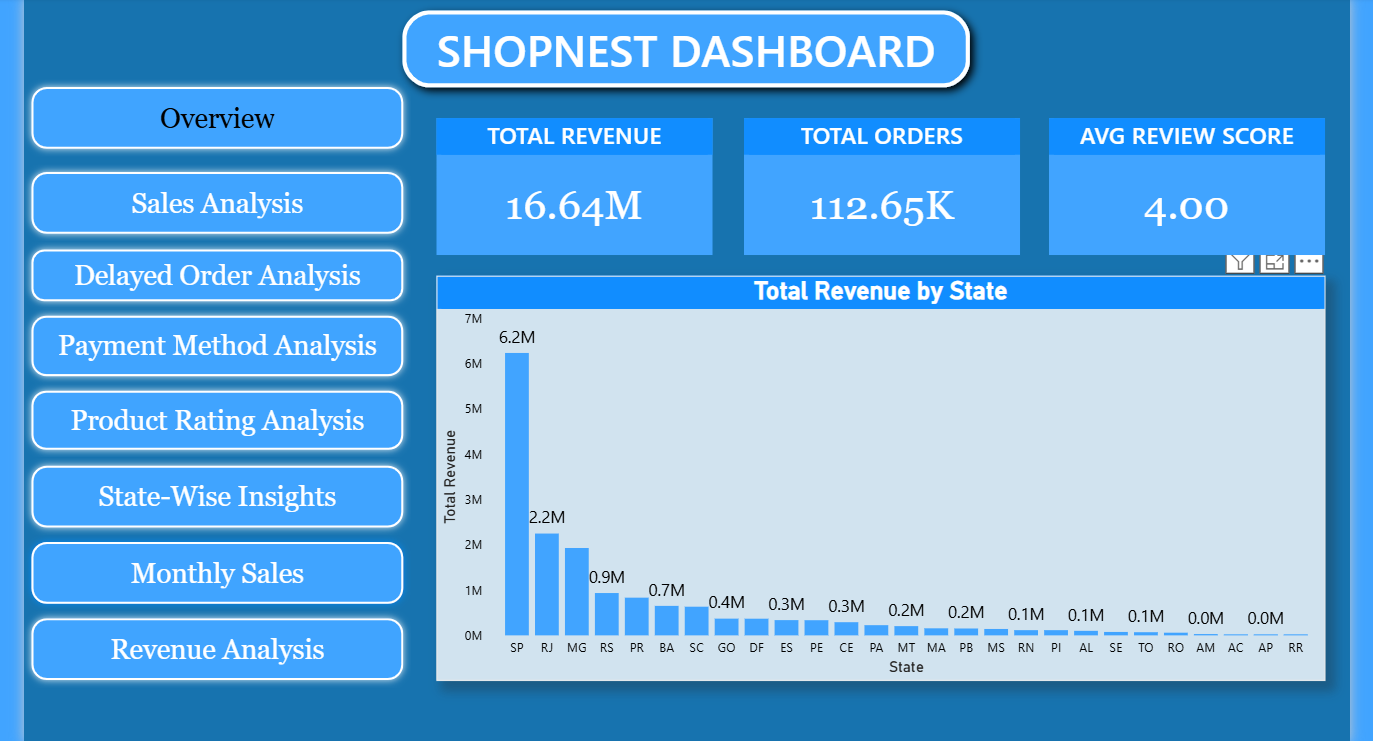

Layout of this report page (visuals, bound fields, positions):
{"tool":"powerbi","page":{"name":"Overview","canvas":[1280,720],"ordinal":0},"visuals":[{"type":"shape","box":[352.7,0,573.6,100.2],"z":0},{"type":"shape","box":[0,236,373.2,64.5],"z":1000},{"type":"shape","box":[0,161.9,373.2,74.1],"z":2000},{"type":"shape","box":[0,300.5,373.2,72.7],"z":3000},{"type":"shape","box":[0,444.6,373.2,74.1],"z":4000},{"type":"shape","box":[0,373.2,373.2,71.4],"z":5000},{"type":"clusteredColumnChart","fields":{"Y":["Calculated Measures.Total Revenue"],"Category":["orders_dataset.state"]},"box":[397.9,269,857.6,391.1],"z":6000},{"type":"card","title":"TOTAL REVENUE","fields":{"Values":["Calculated Measures.Total Revenue"]},"box":[397.9,116.6,266.2,131.7],"z":7000},{"type":"card","title":"TOTAL ORDERS","fields":{"Values":["CountNonNull(order_items.order_id)"]},"box":[694.3,116.6,266.2,131.7],"z":8000},{"type":"card","title":"AVG REVIEW SCORE","fields":{"Values":["Avg(orders_dataset.review_score)"]},"box":[989.4,116.6,266.2,131.7],"z":9000},{"type":"shape","box":[0,592.8,373.2,74.1],"z":10000},{"type":"shape","box":[0,518.7,373.2,74.1],"z":11000},{"type":"shape","box":[0,79.6,373.2,74.1],"z":12000}]}

Visuals, with their boxes on the page's 1280x720 design canvas (x1, y1, x2, y2). These are canvas units, not pixel positions in the 1373x741 screenshot, which may show the page scaled, cropped or inside an application window:
shape: (353,0,926,100)
shape: (0,236,373,300)
shape: (0,162,373,236)
shape: (0,300,373,373)
shape: (0,445,373,519)
shape: (0,373,373,445)
clusteredColumnChart - Calculated Measures.Total Revenue x orders_dataset.state: (398,269,1256,660)
"TOTAL REVENUE" card: (398,117,664,248)
"TOTAL ORDERS" card: (694,117,960,248)
"AVG REVIEW SCORE" card: (989,117,1256,248)
shape: (0,593,373,667)
shape: (0,519,373,593)
shape: (0,80,373,154)
